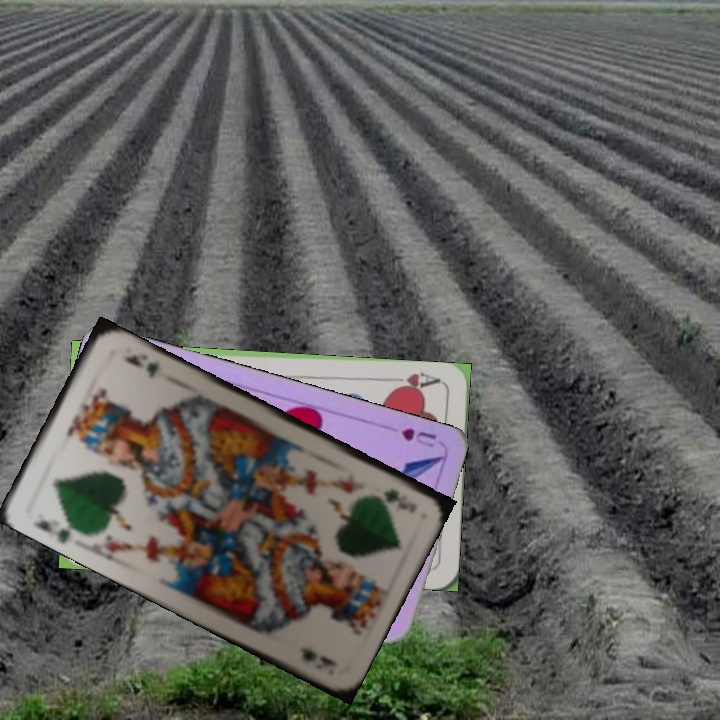GK: (29, 516, 83, 546), (380, 485, 411, 513)
HA: (385, 368, 443, 395)
HU: (397, 424, 439, 451)
